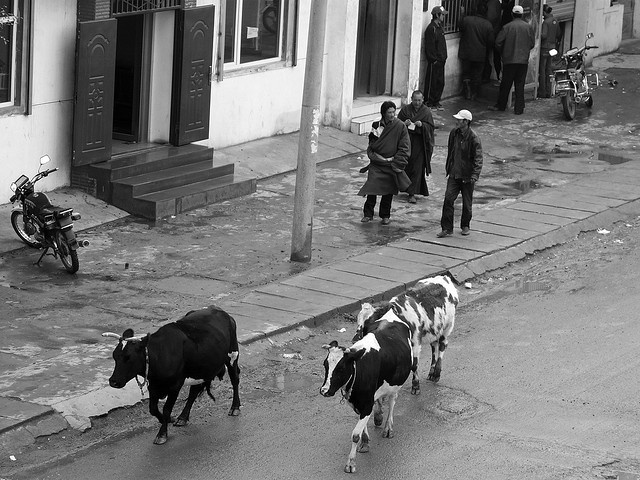non-vehicle: (9, 153, 91, 274), (549, 30, 602, 121)
